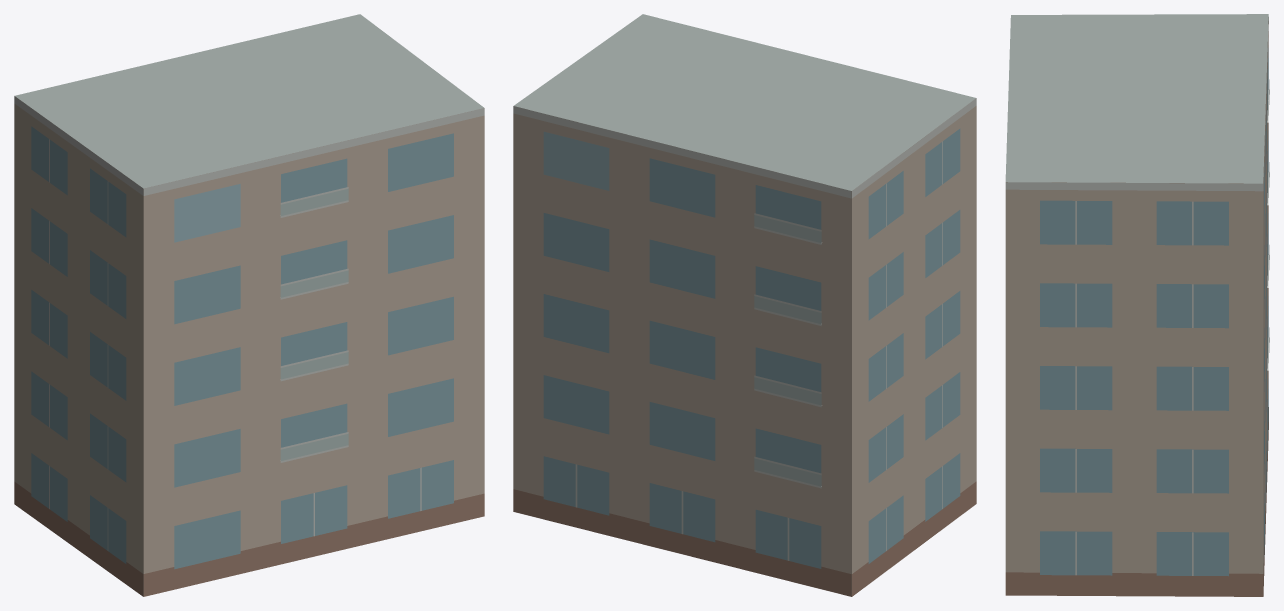
Rendered from survey-upis-32874012.glb.
3 views of the same model, side by side, from view 1: azimuth 30°, elevation 25°; view 2: azimuth 150°, elevation 25°; view 3: azimuth 270°, elevation 25° (orthographic).
Visible parts, largest first — view 1: survey-upis-32874012.tmp; view 2: survey-upis-32874012.tmp; view 3: survey-upis-32874012.tmp.
Boxes of the visible parts, x1,y1,x2,y2 form: survey-upis-32874012.tmp: (14,14,484,596); survey-upis-32874012.tmp: (513,14,976,596); survey-upis-32874012.tmp: (1005,14,1269,596).
Size of the model in its own units: 11.62 by 13.2 by 7.65.
